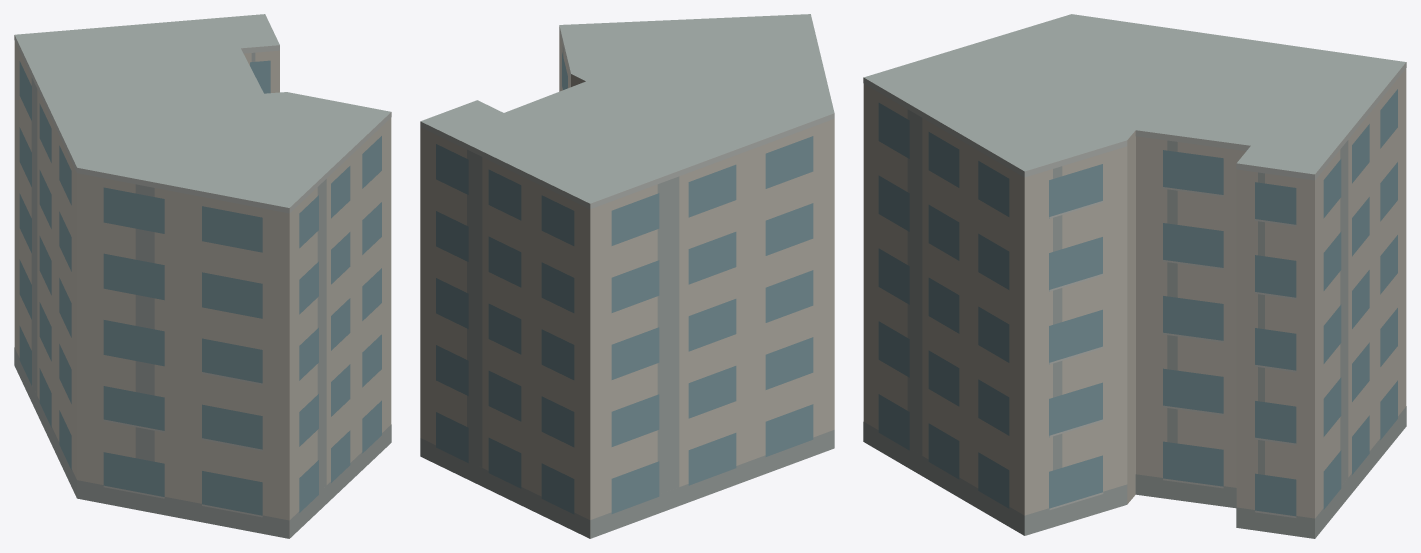
File: survey-upis-32633708.glb
3 renders of one model, left to right at view 1: azimuth 30°, elevation 25°; view 2: azimuth 150°, elevation 25°; view 3: azimuth 270°, elevation 25°, orthographic. The views are drawn at different scales.
Visible parts, largest first — view 1: survey-upis-32633708.tmp; view 2: survey-upis-32633708.tmp; view 3: survey-upis-32633708.tmp.
Part boxes in pixels (x1,y1,x2,y2): survey-upis-32633708.tmp: (14, 14, 391, 538); survey-upis-32633708.tmp: (420, 14, 834, 538); survey-upis-32633708.tmp: (863, 14, 1406, 538).
Size of the model in its own units: 13.89 by 14.7 by 19.85.
